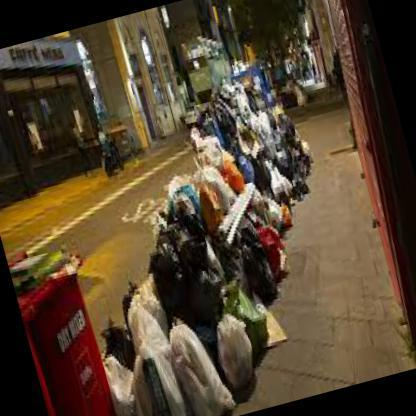Garbage: (119, 201, 292, 414), (95, 295, 241, 415), (173, 148, 291, 296), (204, 70, 323, 212), (10, 248, 78, 288)
